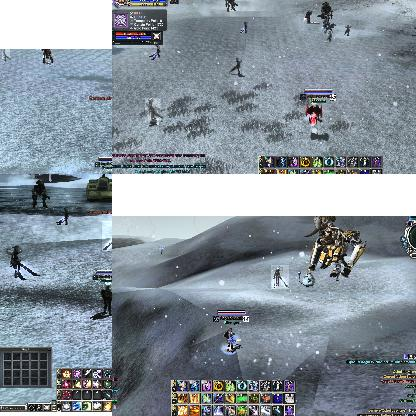caliana: (6, 245, 40, 281), (271, 265, 289, 289), (145, 98, 161, 122), (101, 221, 112, 250), (56, 207, 70, 224), (147, 46, 161, 60), (229, 58, 241, 74), (238, 21, 248, 33), (2, 49, 10, 59), (344, 24, 350, 35), (326, 32, 332, 42), (158, 245, 164, 254)
